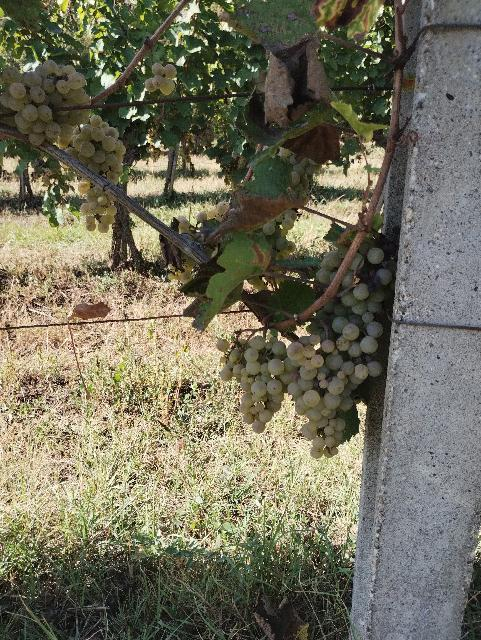grapes: (288, 335, 382, 459), (324, 234, 398, 358), (0, 60, 90, 150), (218, 335, 286, 434), (72, 115, 125, 185), (78, 180, 118, 234), (316, 245, 349, 284), (145, 62, 178, 95)
